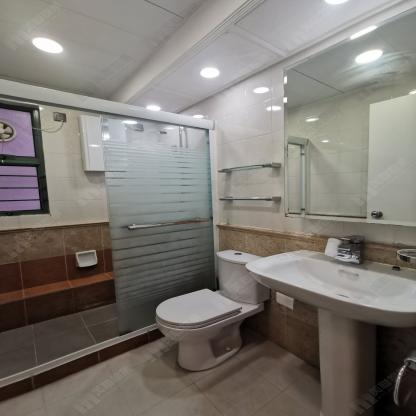Exhaust Fan: (0, 118, 17, 145)
Faucet: (334, 232, 369, 265)
Toilet: (155, 249, 271, 372)
Toilet Sink: (244, 249, 416, 327)
Water Cubicle: (0, 80, 221, 402)
